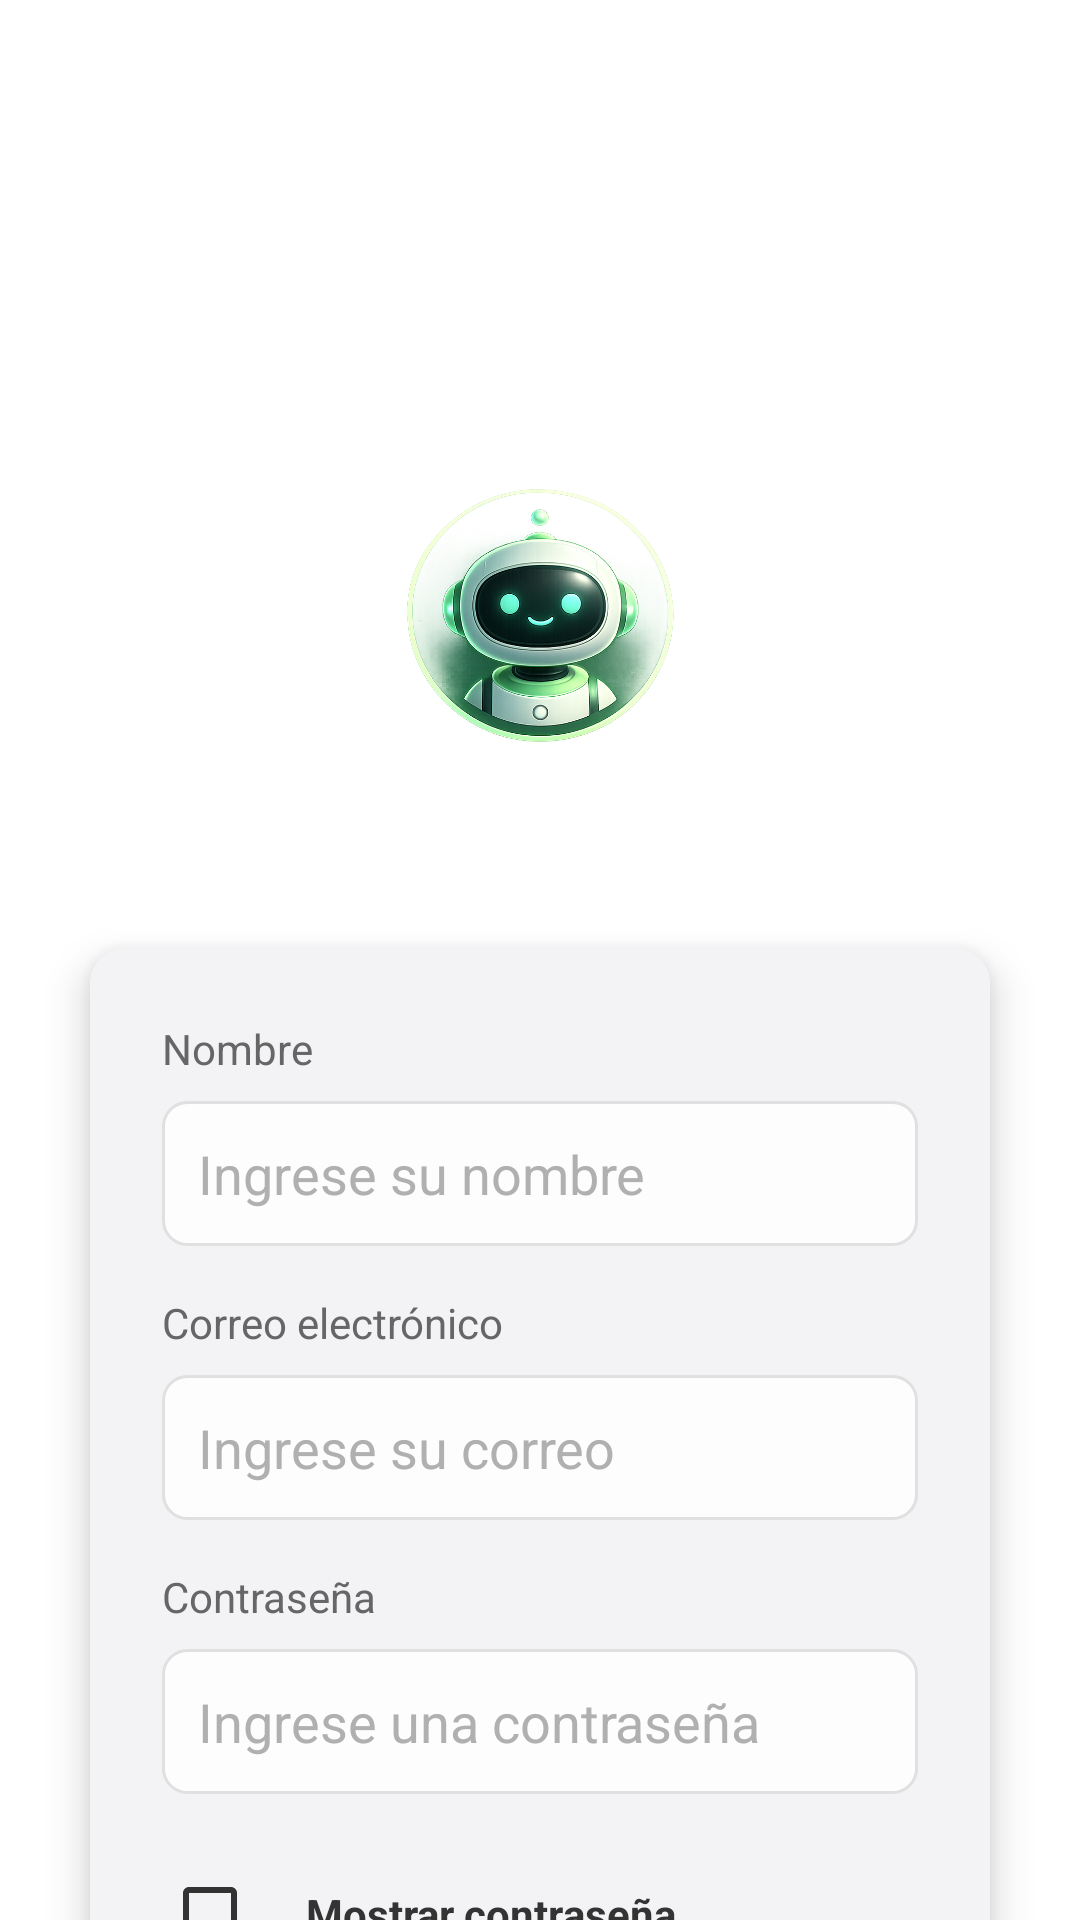

Where to tap for icons on this 1080 x 1920 app screen, as (x,y):
robot: (540,615)
